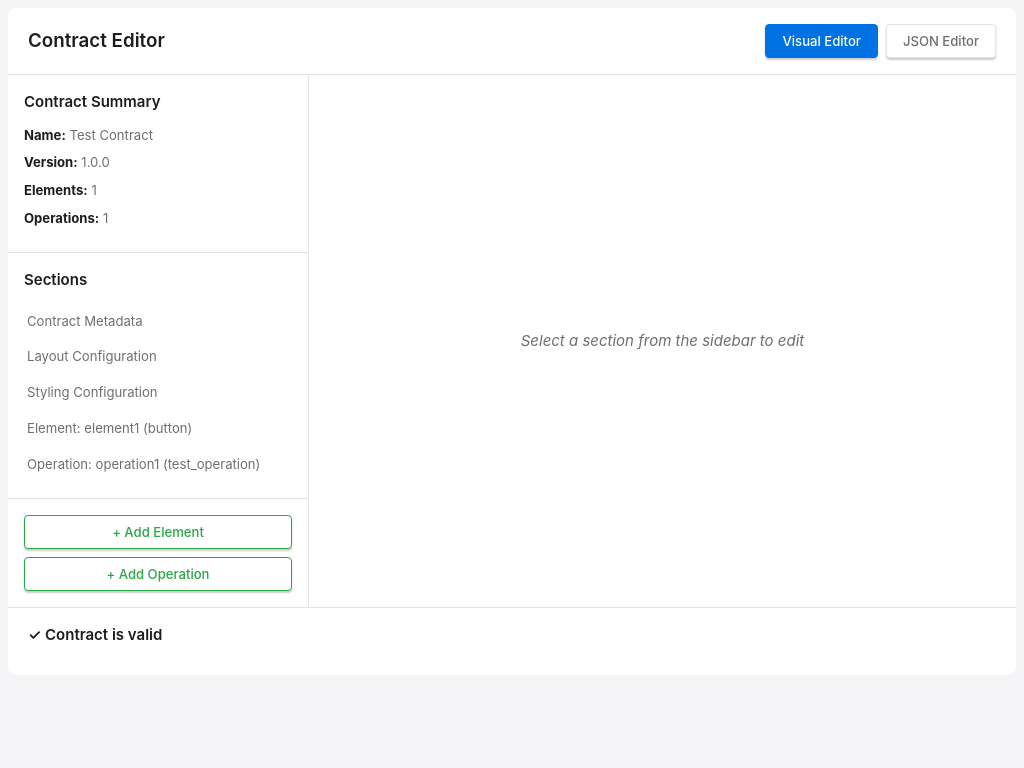
Test: ContractEditor › handles metadata editing
# Select metadata section
Click the text "Contract Metadata".
click(85, 321)  # box [27,313,142,329]
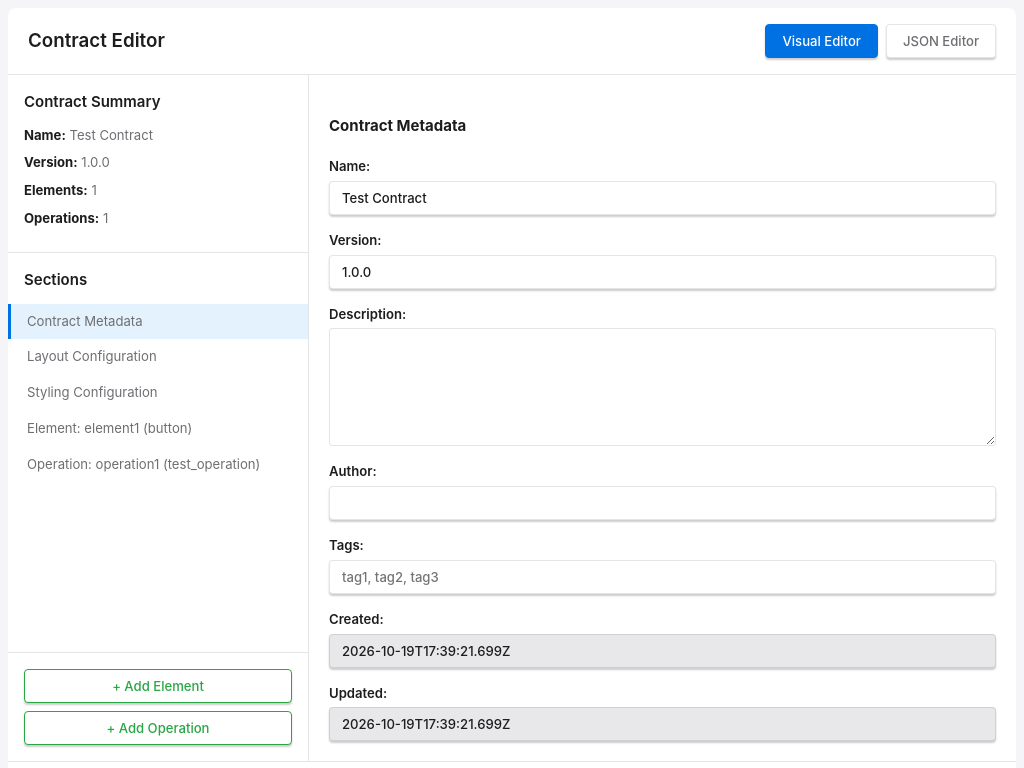
Expected: the field labelled "Name:" is shown, [329,181,996,215]
